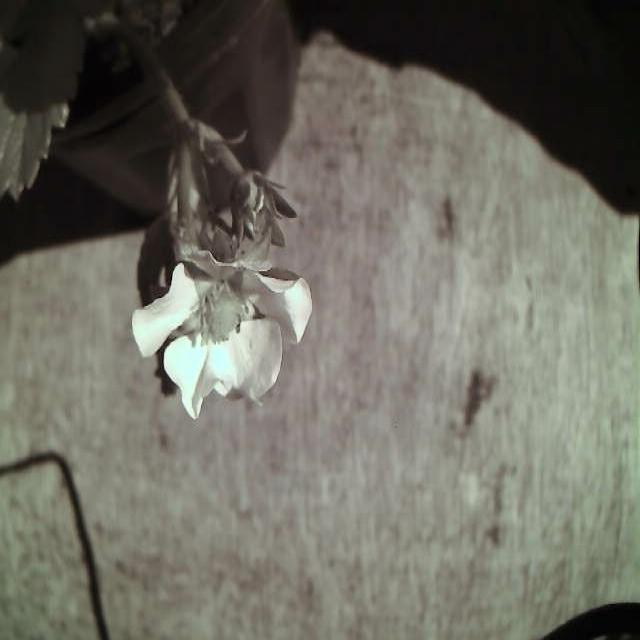flower: (123, 239, 315, 432)
